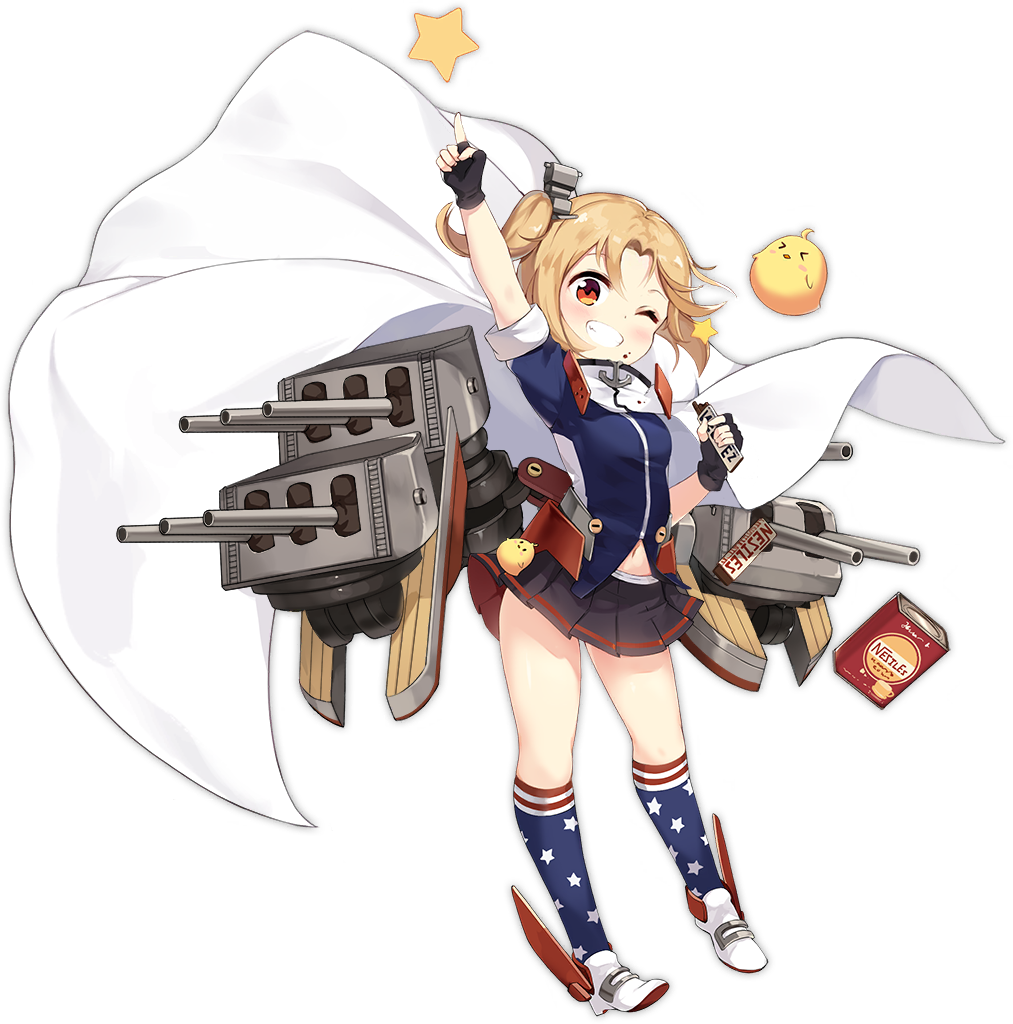person: (401, 93, 1012, 1022)
